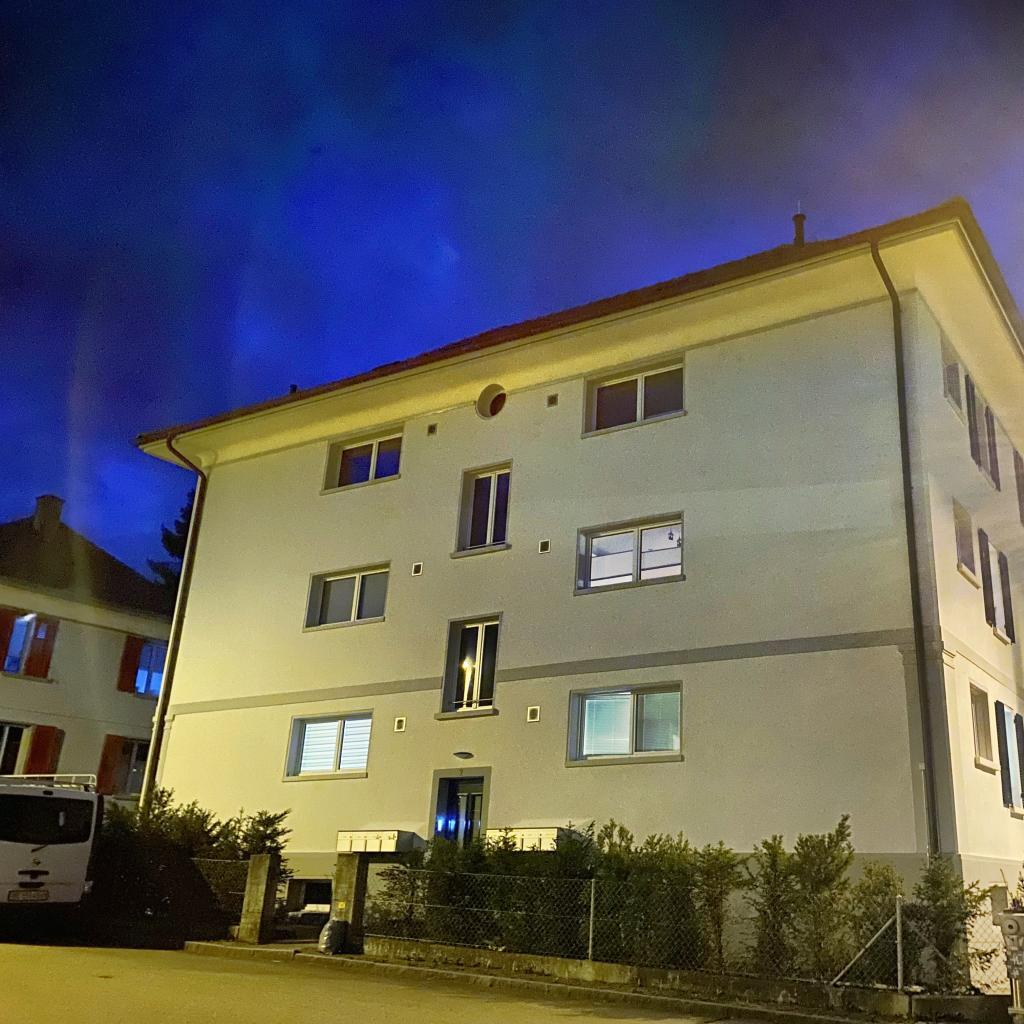car: (0, 772, 106, 914)
facade: (119, 192, 1024, 1024), (0, 493, 177, 809)
fence: (119, 847, 1024, 1024)
street: (0, 913, 785, 1024)
vegetation: (362, 810, 1024, 994), (85, 779, 301, 941), (145, 487, 197, 591)
window: (575, 687, 680, 761), (584, 518, 682, 589), (592, 362, 684, 432), (293, 712, 373, 775), (0, 605, 62, 681), (977, 527, 1016, 646), (314, 567, 390, 627), (451, 620, 500, 712), (964, 374, 1001, 493), (334, 431, 404, 488), (465, 467, 510, 550), (97, 733, 151, 801), (993, 699, 1024, 817), (116, 632, 168, 702), (435, 776, 484, 843), (0, 718, 60, 772), (969, 681, 994, 762), (953, 495, 976, 576), (940, 335, 962, 412), (1012, 449, 1024, 528)
